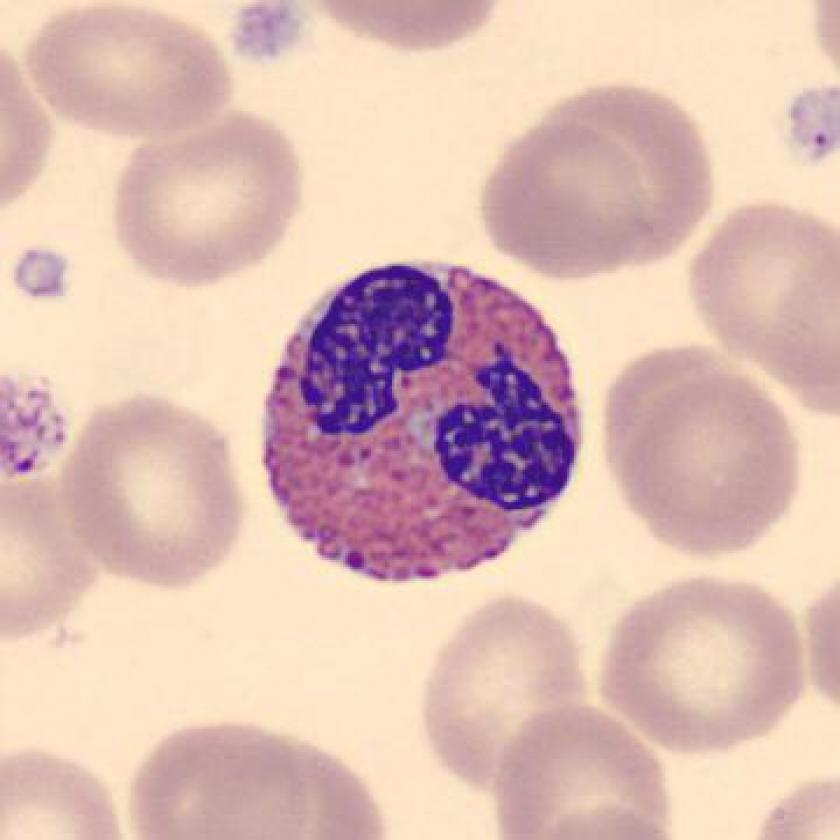eosinophil: (241, 242, 601, 603)
